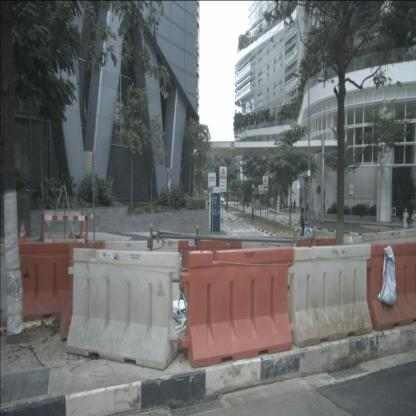human-pedestrian-adult: (298, 207, 306, 239), (402, 207, 410, 235), (411, 208, 416, 236), (293, 198, 296, 212), (225, 200, 228, 213), (299, 196, 302, 208), (289, 199, 291, 212), (247, 198, 249, 208)
movable_object-barrier: (65, 247, 180, 371), (179, 246, 294, 369), (287, 242, 373, 348), (104, 239, 179, 313), (17, 242, 83, 324), (342, 228, 416, 290), (366, 241, 416, 332), (178, 237, 243, 303), (242, 238, 293, 289), (60, 241, 84, 340), (296, 236, 338, 288)
movable_object-trafficcone: (18, 222, 24, 244), (21, 221, 27, 242)
vehicle-car: (220, 196, 224, 204)
